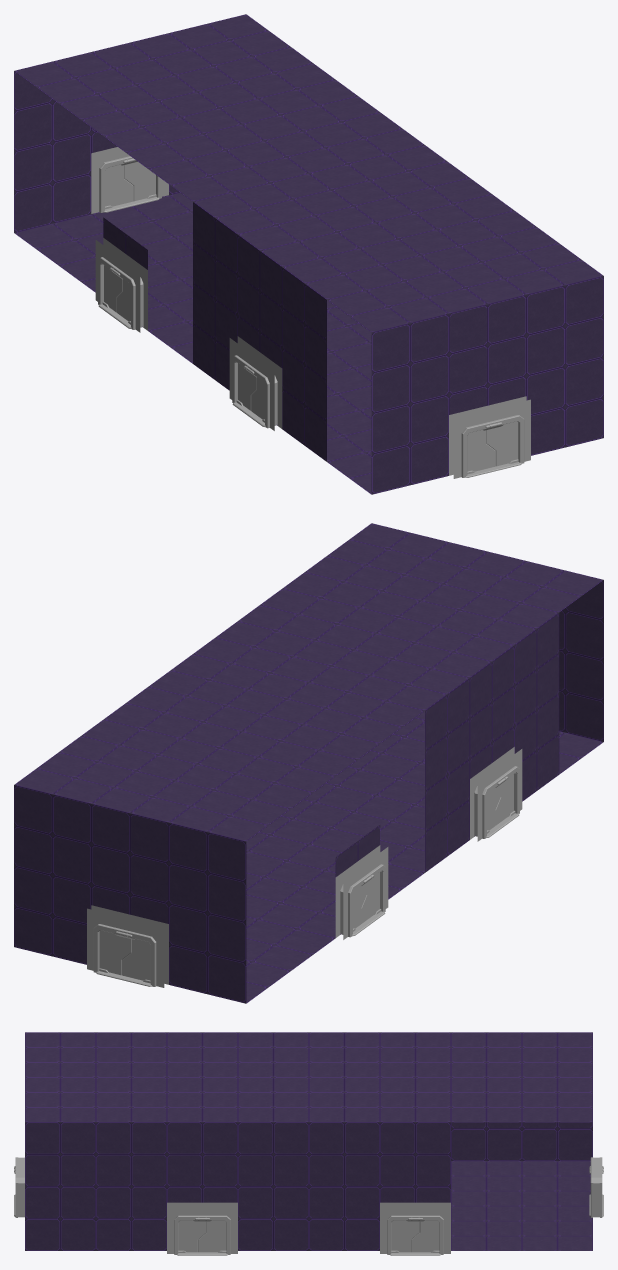
File: env_test.fbx
The picture shows the model from 3 angles, top to bottom: view 1: azimuth 30°, elevation 25°; view 2: azimuth 150°, elevation 25°; view 3: azimuth 270°, elevation 25°; orthographic projection. The views are drawn at different scales.
Parts seen in each view (by area): view 1: door_wall (×4), floor_9x12, floor_9x33, floor_9x34, floor_9x36, floor_9x37, floor_9x32, floor_9x42, floor_9x40, floor_9x41, floor_9x44, floor_9x90 (+41 smaller); view 2: door_wall (×3), floor_9x10, floor_9x15, floor_9x12, floor_9x14, floor_9x11, floor_9x40, floor_9x37, floor_9x42, floor_9x44, floor_9x45, floor_9x93 (+42 smaller); view 3: door_wall (×4), floor_9x21, floor_9x22, floor_9x23, floor_9x24, floor_9x25, floor_9x27, floor_9x28, floor_9x29, floor_9x30, floor_9x31, floor_9x51 (+36 smaller).
Part boxes in pixels (bbox=[...]): door_wall (×4): bbox=[91, 147, 530, 478]; floor_9x12: bbox=[14, 133, 91, 232]; floor_9x33: bbox=[526, 276, 603, 375]; floor_9x34: bbox=[449, 295, 526, 394]; floor_9x36: bbox=[371, 314, 448, 413]; floor_9x37: bbox=[371, 395, 448, 494]; floor_9x32: bbox=[526, 357, 603, 455]; floor_9x42: bbox=[237, 235, 282, 347]; floor_9x40: bbox=[282, 267, 326, 380]; floor_9x41: bbox=[282, 348, 326, 461]; floor_9x44: bbox=[193, 202, 237, 315]; floor_9x90: bbox=[193, 183, 314, 234]; door_wall (×3): bbox=[87, 747, 522, 987]; floor_9x10: bbox=[91, 804, 168, 903]; floor_9x15: bbox=[14, 785, 91, 884]; floor_9x12: bbox=[169, 904, 246, 1003]; floor_9x14: bbox=[169, 823, 246, 922]; floor_9x11: bbox=[14, 866, 91, 964]; floor_9x40: bbox=[514, 613, 559, 725]; floor_9x37: bbox=[559, 650, 603, 741]; floor_9x42: bbox=[470, 645, 514, 758]; floor_9x44: bbox=[425, 678, 469, 791]; floor_9x45: bbox=[425, 759, 469, 872]; floor_9x93: bbox=[303, 692, 424, 743]; door_wall (×4): bbox=[14, 1157, 603, 1255]; floor_9x21: bbox=[380, 1122, 450, 1186]; floor_9x22: bbox=[309, 1186, 379, 1250]; floor_9x23: bbox=[309, 1122, 379, 1186]; floor_9x24: bbox=[238, 1186, 308, 1250]; floor_9x25: bbox=[238, 1122, 308, 1186]; floor_9x27: bbox=[167, 1122, 237, 1186]; floor_9x28: bbox=[96, 1186, 166, 1250]; floor_9x29: bbox=[96, 1122, 166, 1186]; floor_9x30: bbox=[25, 1186, 95, 1250]; floor_9x31: bbox=[25, 1122, 95, 1186]; floor_9x51: bbox=[451, 1122, 521, 1160].
Size of the model in its own units: 3308 by 2000 by 8308.
2 materials, 1 textured.
